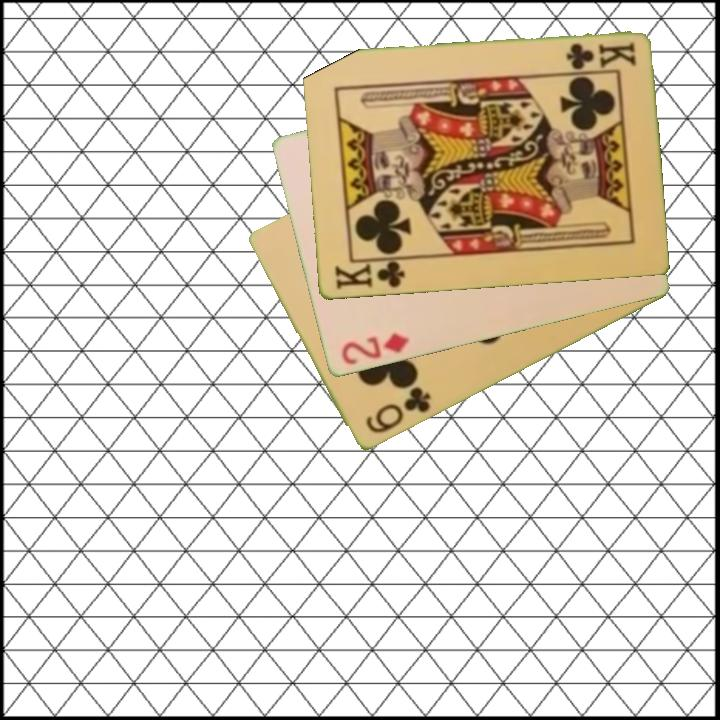2d: (337, 329, 412, 368)
6c: (362, 383, 434, 437)
Kc: (331, 256, 410, 293), (562, 39, 638, 72)
